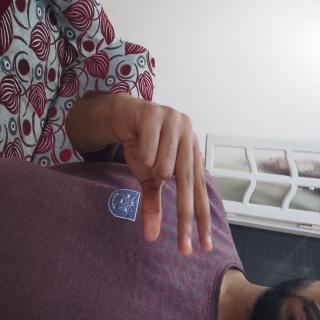DHELL: (65, 135, 199, 277)
